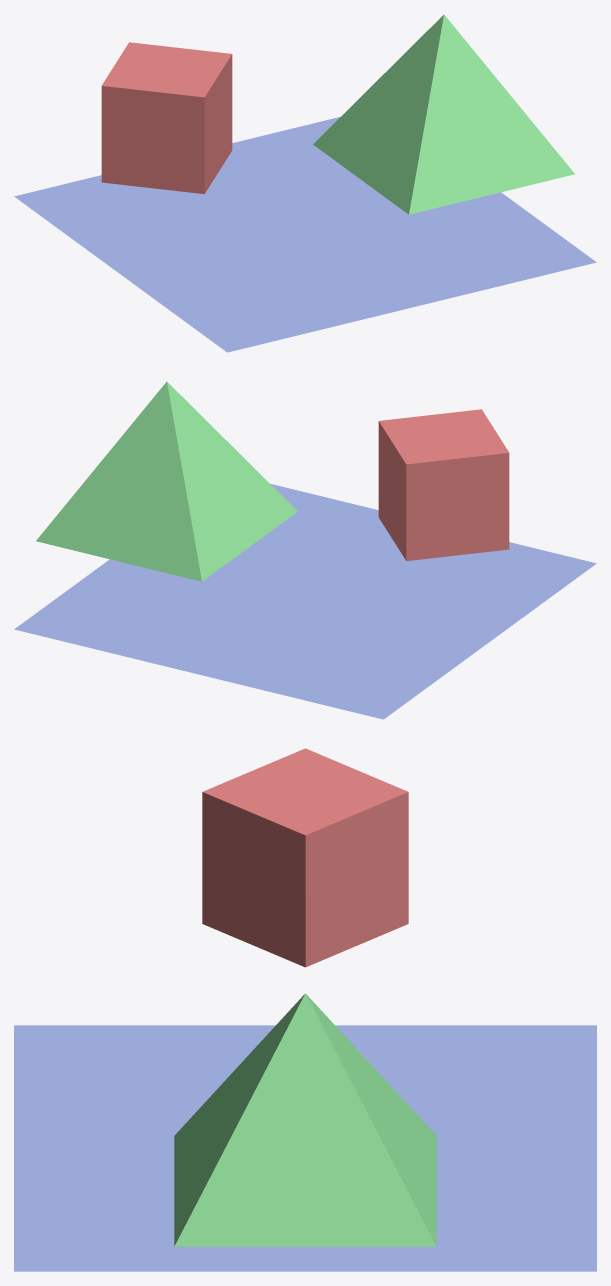
File: shapes.glb
The picture shows the model from 3 angles, top to bottom: view 1: azimuth 30°, elevation 25°; view 2: azimuth 150°, elevation 25°; view 3: azimuth 270°, elevation 25°; orthographic projection. The views are drawn at different scales.
Visible parts, largest first — view 1: floor, pyramid, cube; view 2: floor, pyramid, cube; view 3: floor, pyramid, cube.
Boxes of the visible parts, left/top/right/bottom form: floor: left=14, top=116, right=596, bottom=352; pyramid: left=313, top=14, right=574, bottom=214; cube: left=101, top=42, right=232, bottom=193; floor: left=14, top=483, right=596, bottom=719; pyramid: left=36, top=381, right=297, bottom=581; cube: left=378, top=409, right=509, bottom=560; floor: left=14, top=1025, right=596, bottom=1271; pyramid: left=174, top=993, right=436, bottom=1246; cube: left=202, top=748, right=408, bottom=967.
Bounding box in the file's own units: 4.61 × 2 × 4.
